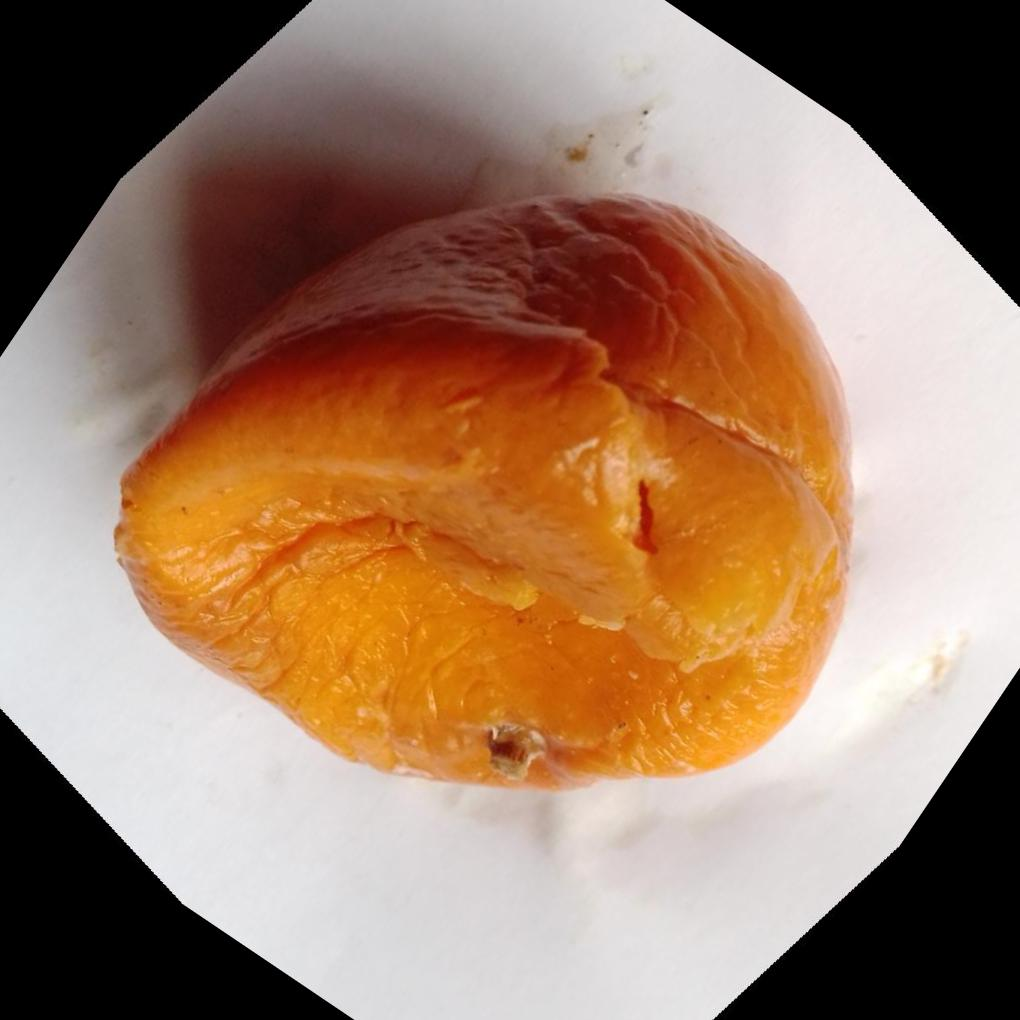FreshOrange: (111, 191, 856, 791)
